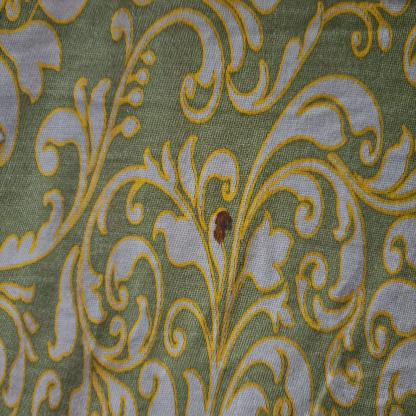spot: (211, 207, 235, 244)
